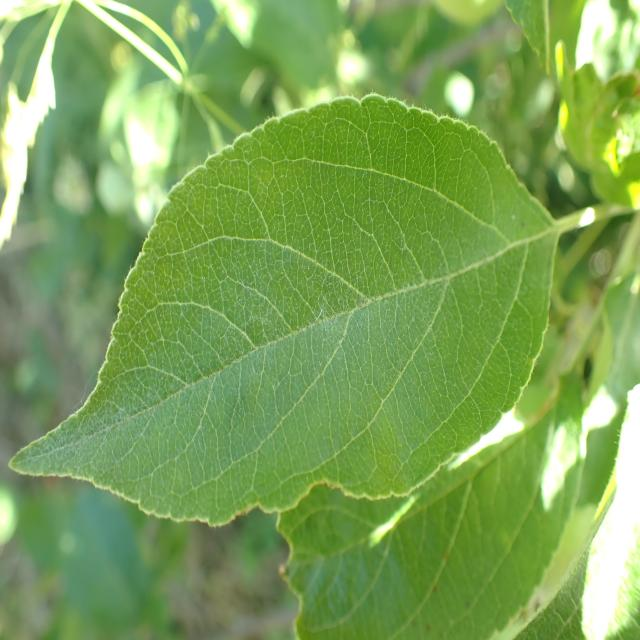healthy: (9, 91, 559, 527), (273, 377, 584, 640), (510, 383, 640, 640)
